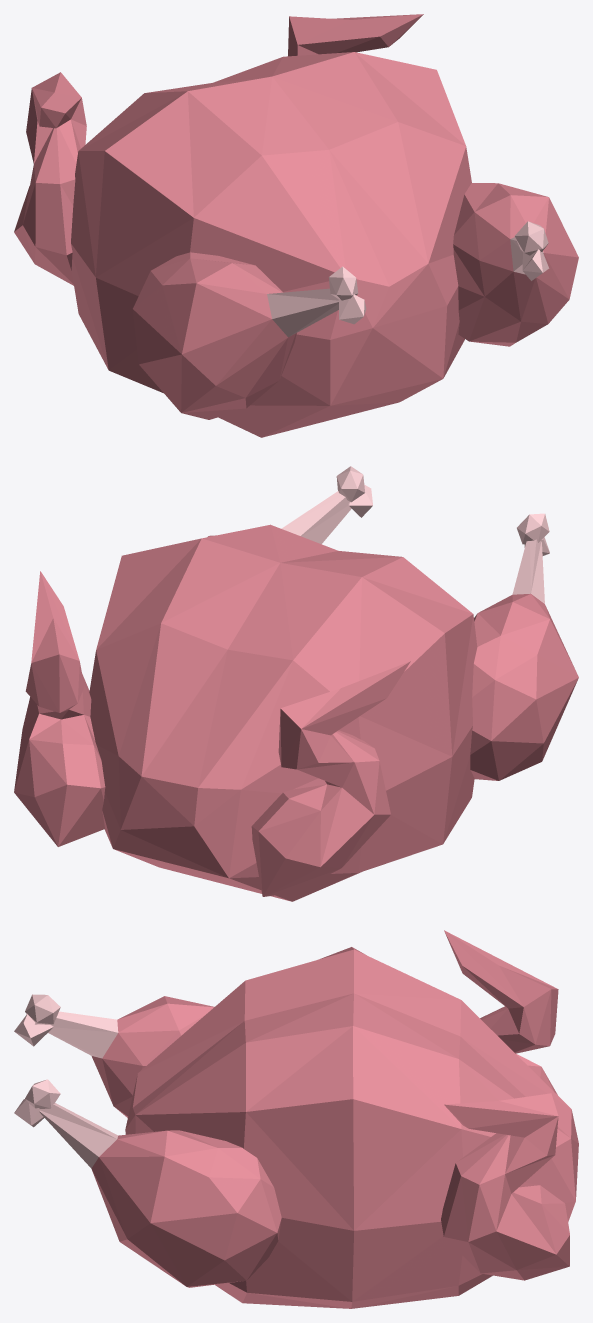
The model's file is SFI_Chicken_Cooked_001.fbx.
3 renders of one model, top to bottom at view 1: azimuth 30°, elevation 25°; view 2: azimuth 150°, elevation 25°; view 3: azimuth 270°, elevation 25°, orthographic. The views are drawn at different scales.
Parts seen in each view (by area): view 1: SFI_Chicken_Cooked_001; view 2: SFI_Chicken_Cooked_001; view 3: SFI_Chicken_Cooked_001.
Part boxes in pixels (box(x1,y1,x2,y2)): SFI_Chicken_Cooked_001: box(14, 14, 578, 437); SFI_Chicken_Cooked_001: box(14, 466, 578, 901); SFI_Chicken_Cooked_001: box(14, 930, 578, 1308).
Size of the model in its own units: 46.46 by 33.72 by 60.27.
